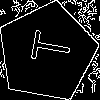T: (22, 27, 72, 66)
